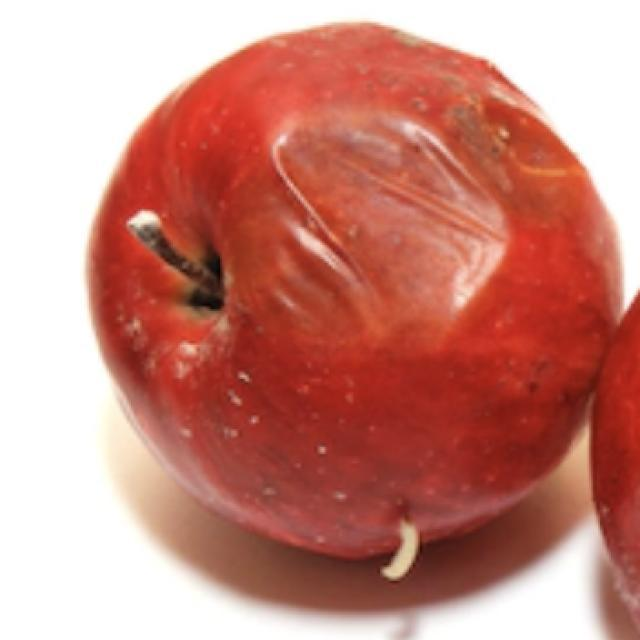Rotten: (81, 20, 602, 578)
